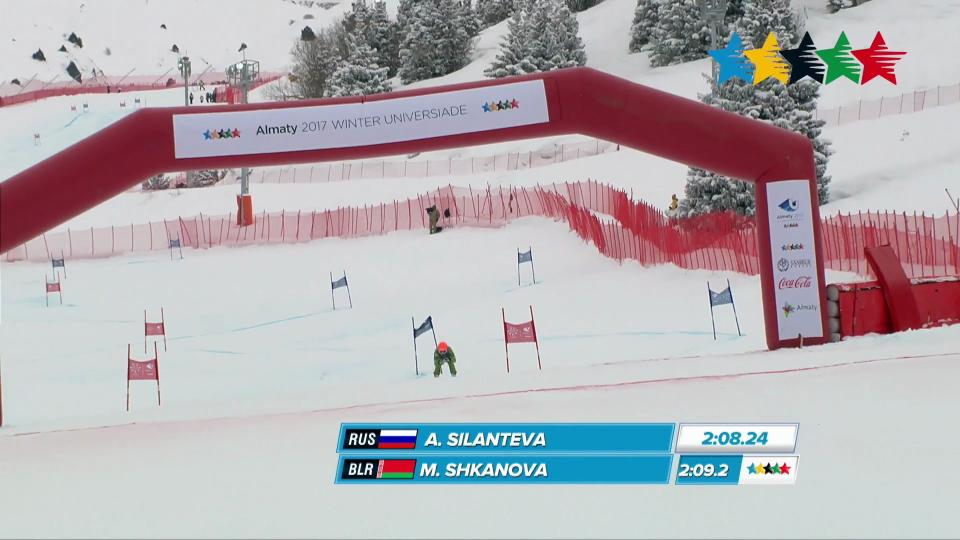gate: (518, 297, 551, 376), (492, 297, 519, 378), (147, 338, 164, 405), (122, 340, 133, 412)
